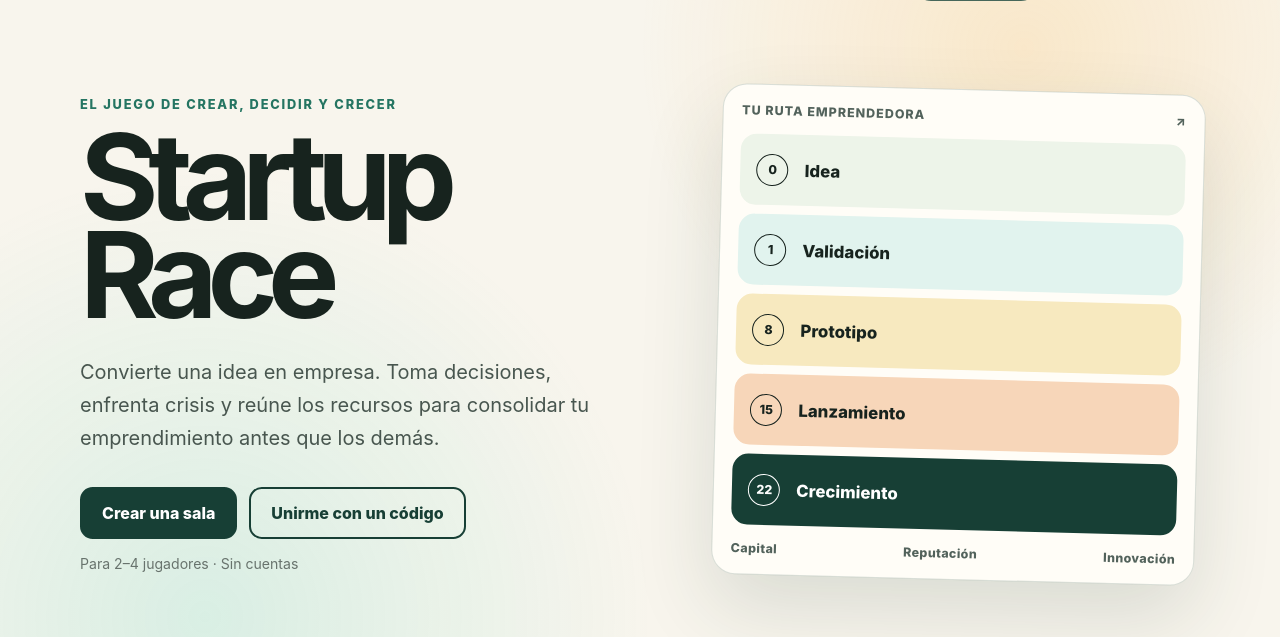
Test: lobby de Startup Race › anuncia en español los errores al unirse
Click the button "Unirme con un código" at coordinates (357, 513), box [249, 487, 466, 539]
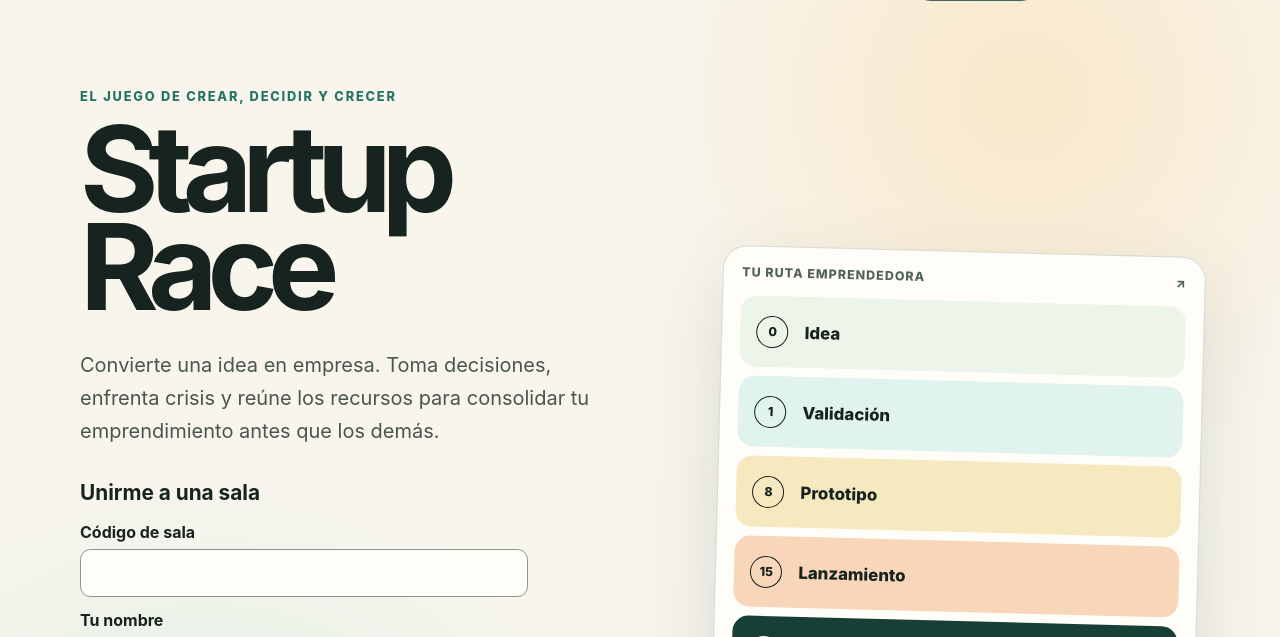
Type "ABC234" into the field labelled "Código de sala" at coordinates (304, 573), box [80, 549, 528, 597]
(page scrolled)
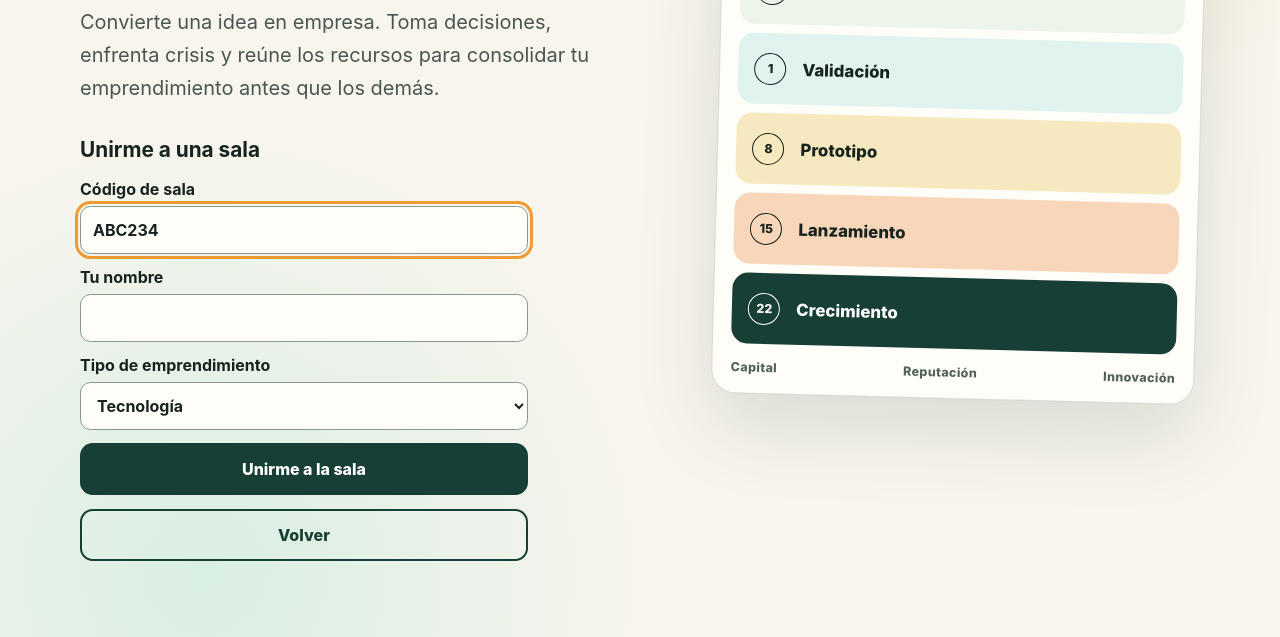
Type "Ana" into the field labelled "Tu nombre" at coordinates (304, 318), box [80, 294, 528, 342]
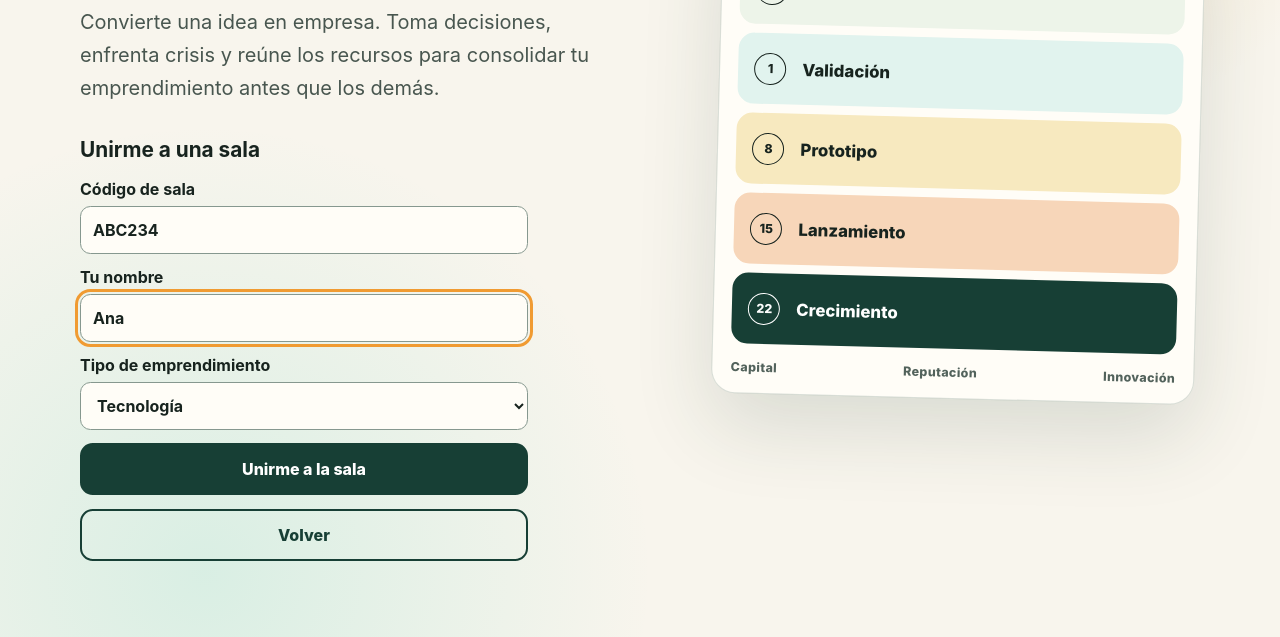
Click the button "Unirme a la sala" at coordinates (304, 469), box [80, 443, 528, 495]
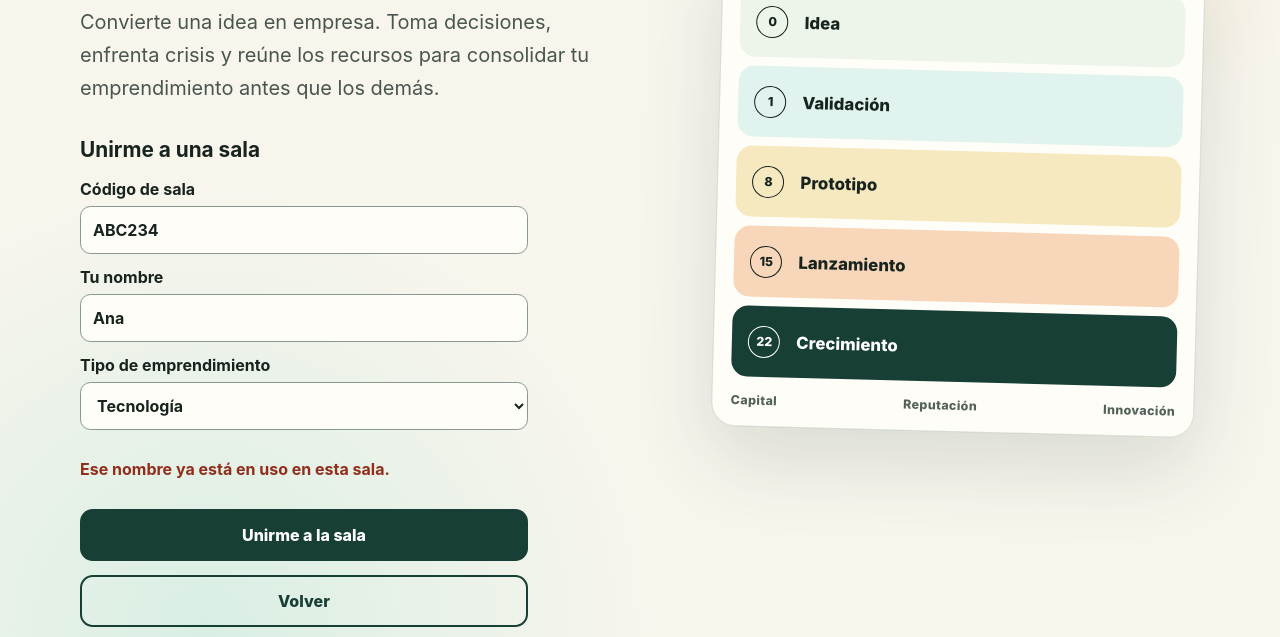
Check: the message reads "Ese nombre ya está en uso en esta sala.", box [80, 459, 390, 479]
